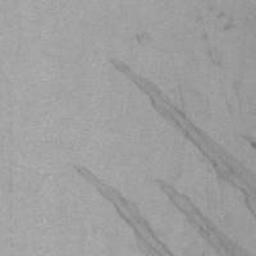Water spot: (102, 50, 256, 223), (73, 163, 180, 256), (155, 175, 256, 256), (253, 136, 256, 151)
